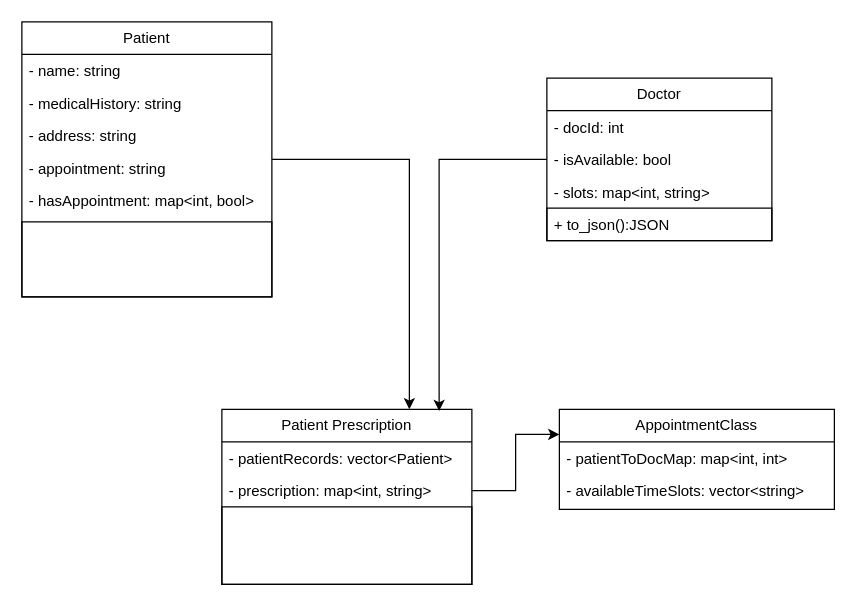
Some shapes in this 856 by 610 pixel diagram are drawn without their labels. Here are the shapes that lost their labels. From the top down, the centre of each, then its label:
At point (146, 259): "+ addToMedicalHistory : void + to_json():JSON".
At point (346, 545): "+ handlePrescription : void + displayMedicalHistory : void".
